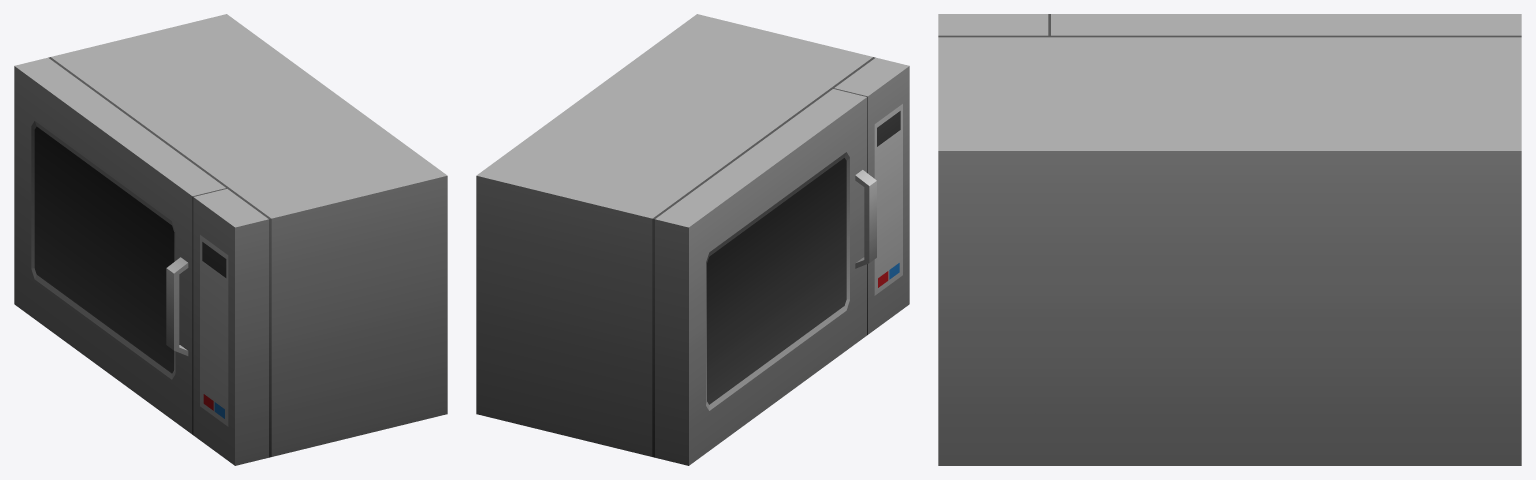
The model's file is SW_Store_PartH_001.FBX.
3 renders of one model, left to right at view 1: azimuth 30°, elevation 25°; view 2: azimuth 150°, elevation 25°; view 3: azimuth 270°, elevation 25°, orthographic. The views are drawn at different scales.
Parts seen in each view (by area): view 1: SW_Store_PartH_001; view 2: SW_Store_PartH_001; view 3: SW_Store_PartH_001.
Boxes of the visible parts, bbox=[...] form: SW_Store_PartH_001: bbox=[14, 14, 447, 465]; SW_Store_PartH_001: bbox=[476, 14, 909, 465]; SW_Store_PartH_001: bbox=[938, 14, 1521, 465].
Bounding box in the file's own units: 23.1 × 23.21 × 38.98.
